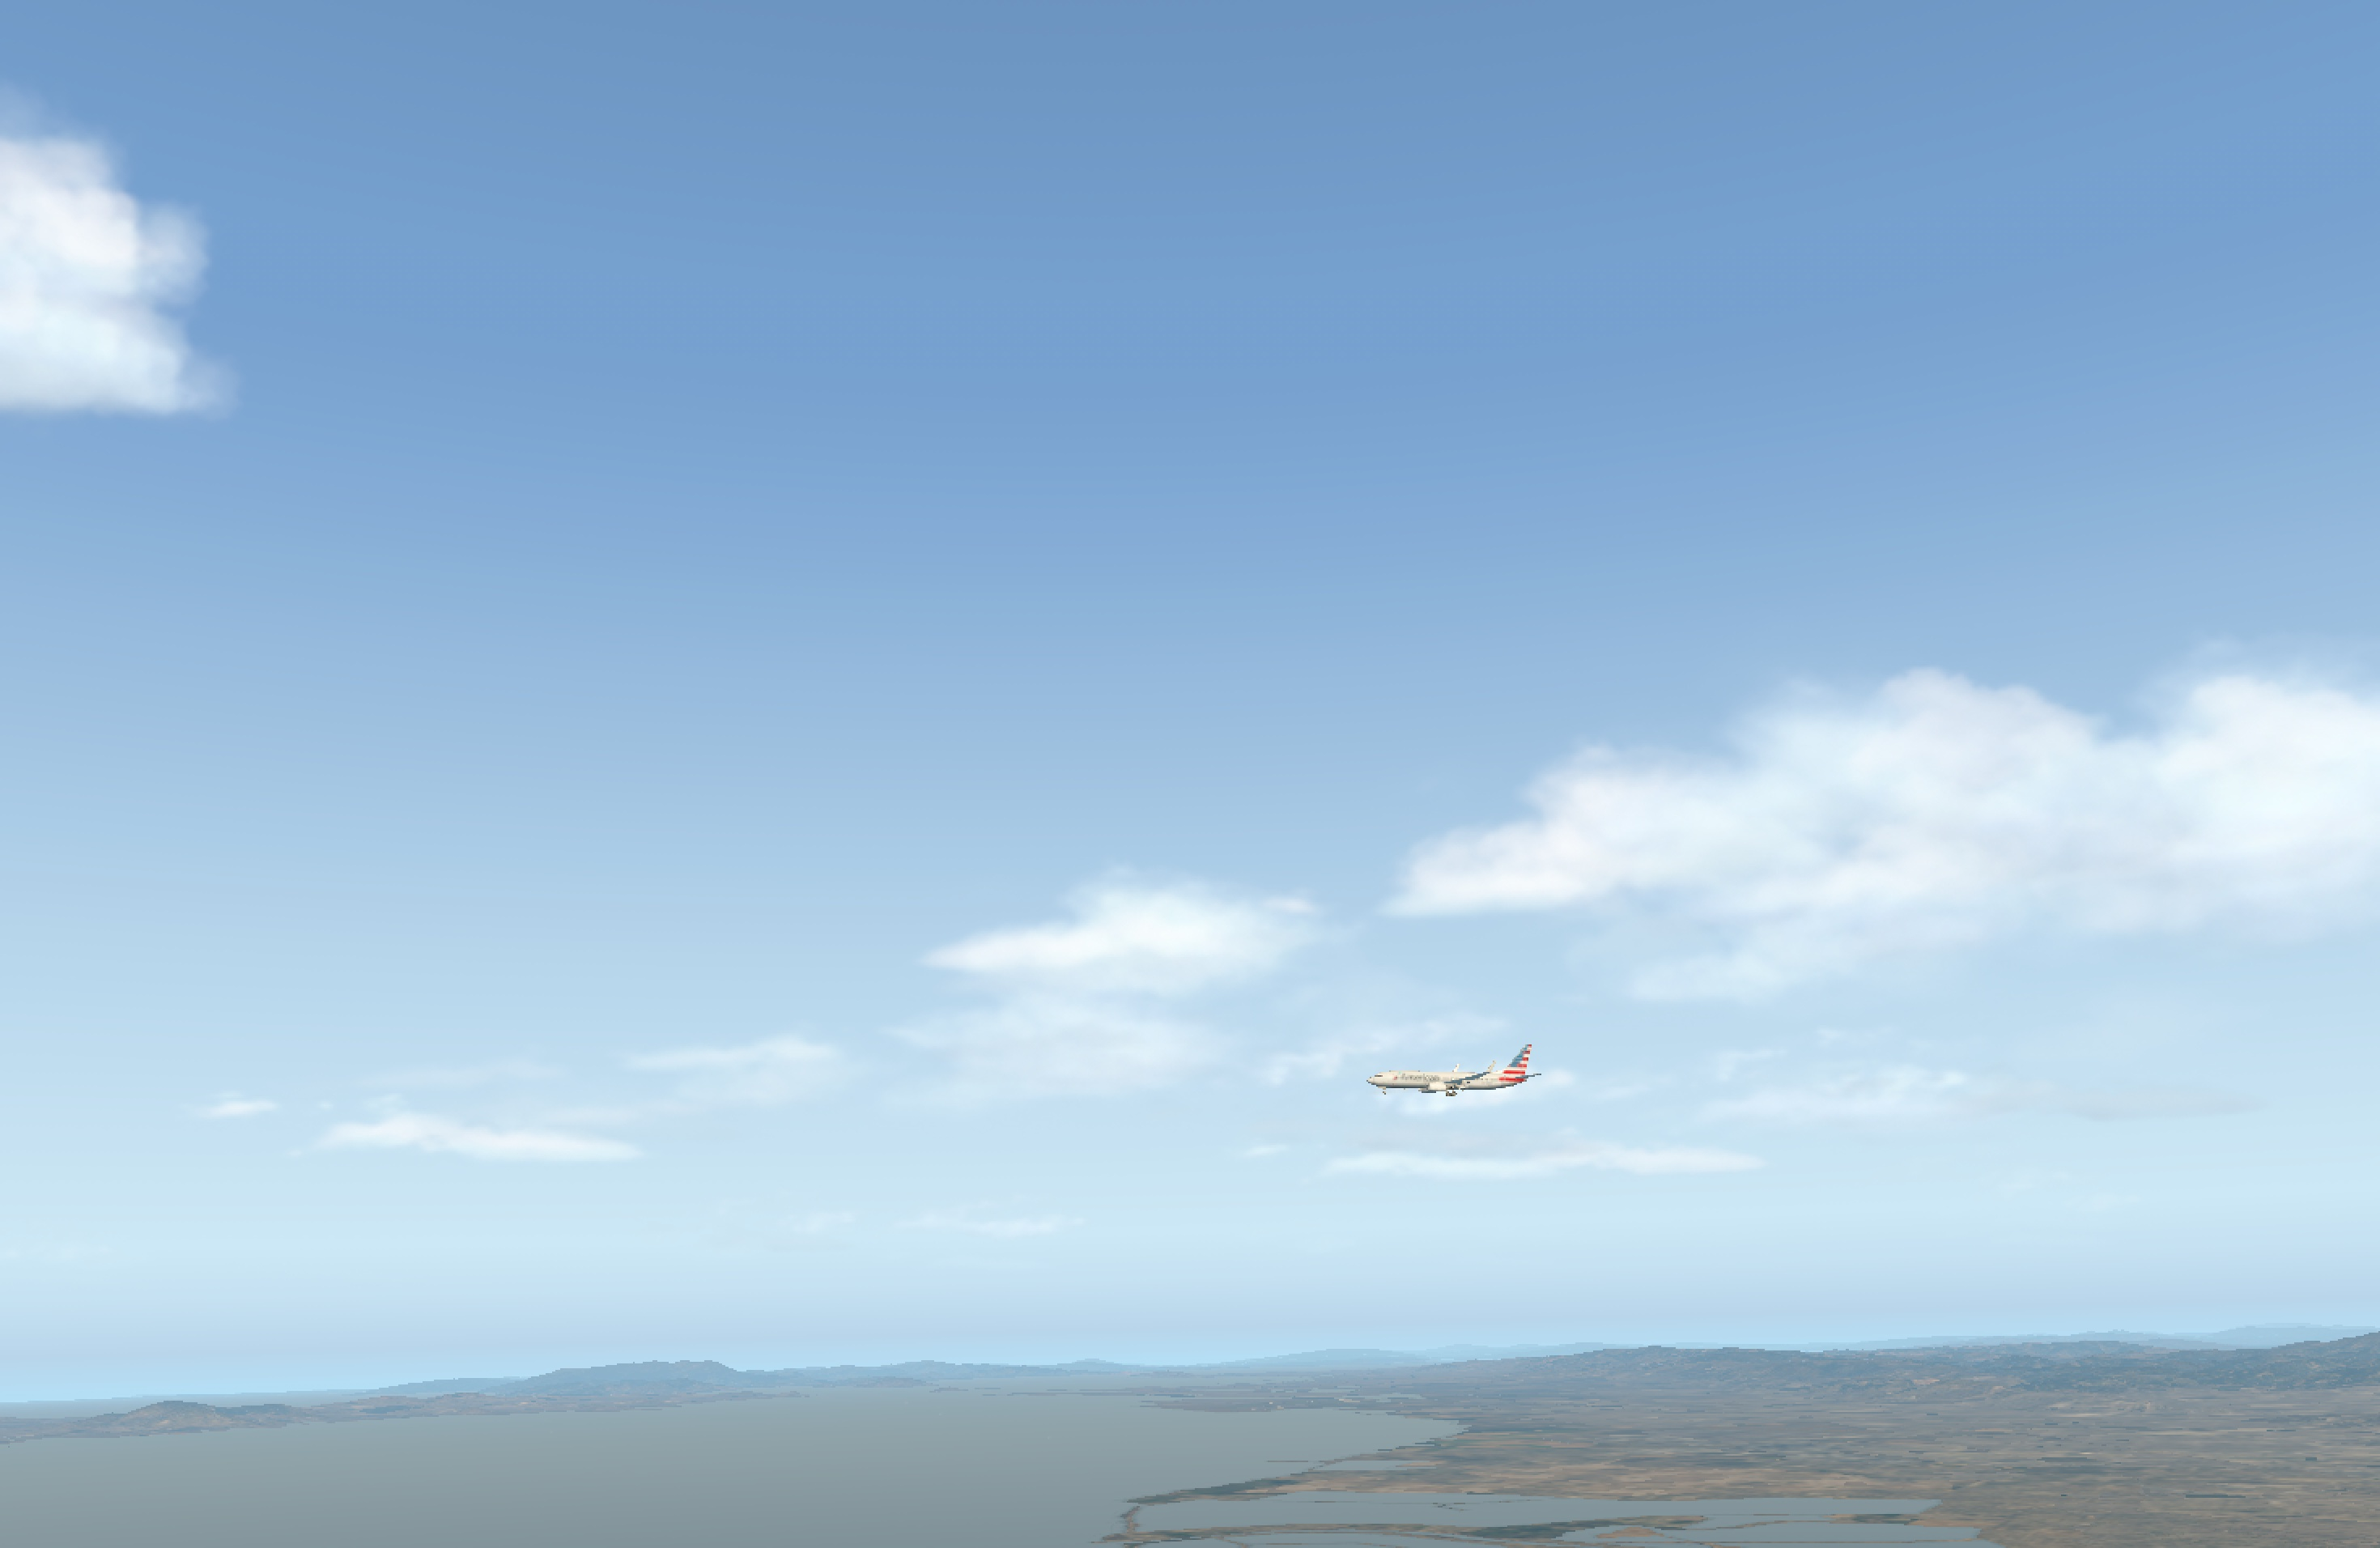aircraft: (1362, 1052, 1528, 1114)
